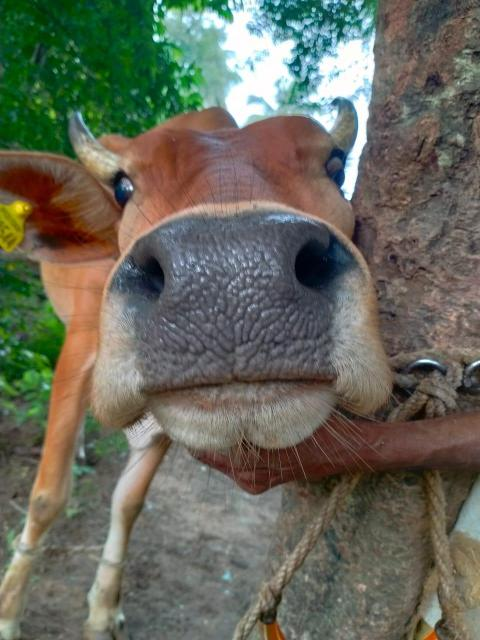Muzzle: (142, 228, 312, 368)
